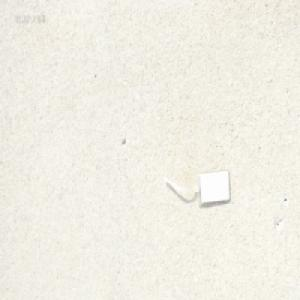LuggageTag: (160, 166, 231, 207)
